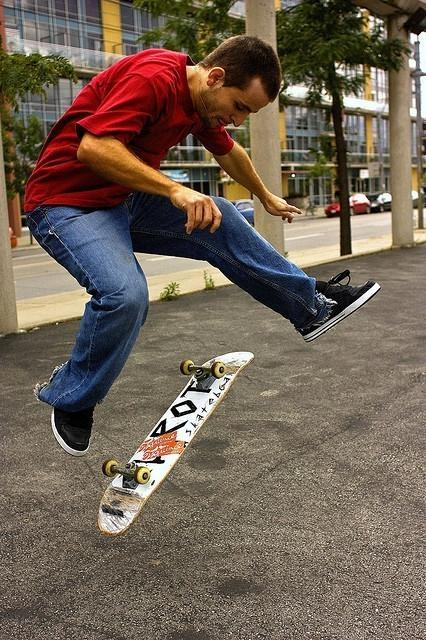car: (324, 193, 371, 218), (231, 199, 255, 225), (366, 192, 392, 212), (412, 191, 418, 208)
